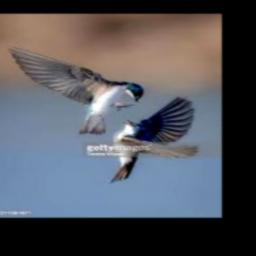Swallow: (7, 45, 144, 135), (110, 97, 198, 182)
